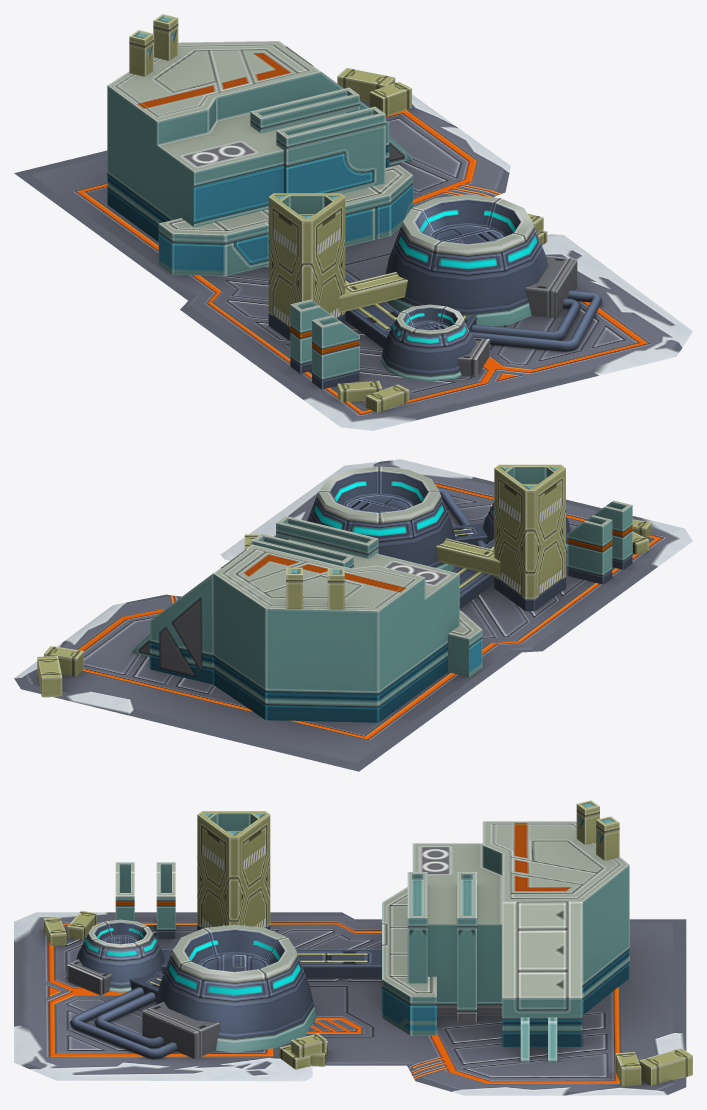
File: building.FBX
3 views of the same model, one above another, from view 1: azimuth 30°, elevation 25°; view 2: azimuth 150°, elevation 25°; view 3: azimuth 270°, elevation 25° (orthographic). The views are drawn at different scales.
Visible parts, largest first — view 1: buid, floor; view 2: buid, floor; view 3: buid, floor.
Boxes of the visible parts, x1=… form: buid: x1=107, y1=14, x2=601, y2=412; floor: x1=14, y1=94, x2=692, y2=430; buid: x1=37, y1=464, x2=651, y2=722; floor: x1=14, y1=459, x2=692, y2=771; buid: x1=43, y1=800, x2=692, y2=1086; floor: x1=14, y1=912, x2=686, y2=1095.
Bounding box in the file's own units: 252 × 95.74 × 394.
